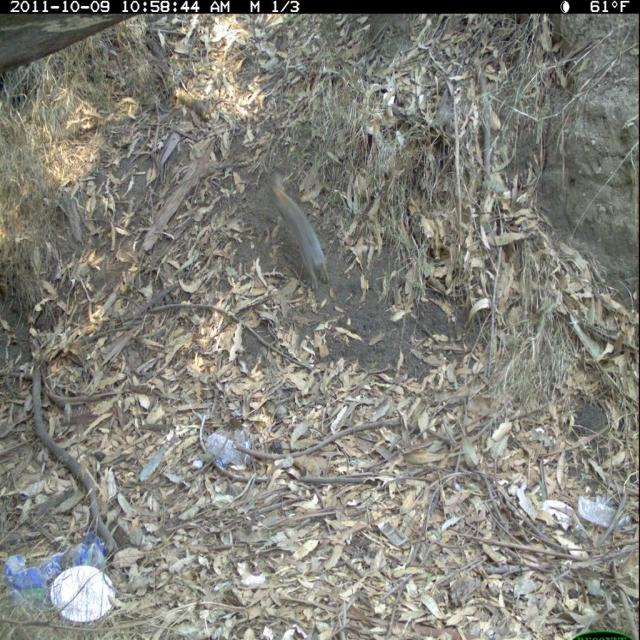rabbit: (263, 175, 340, 289)
